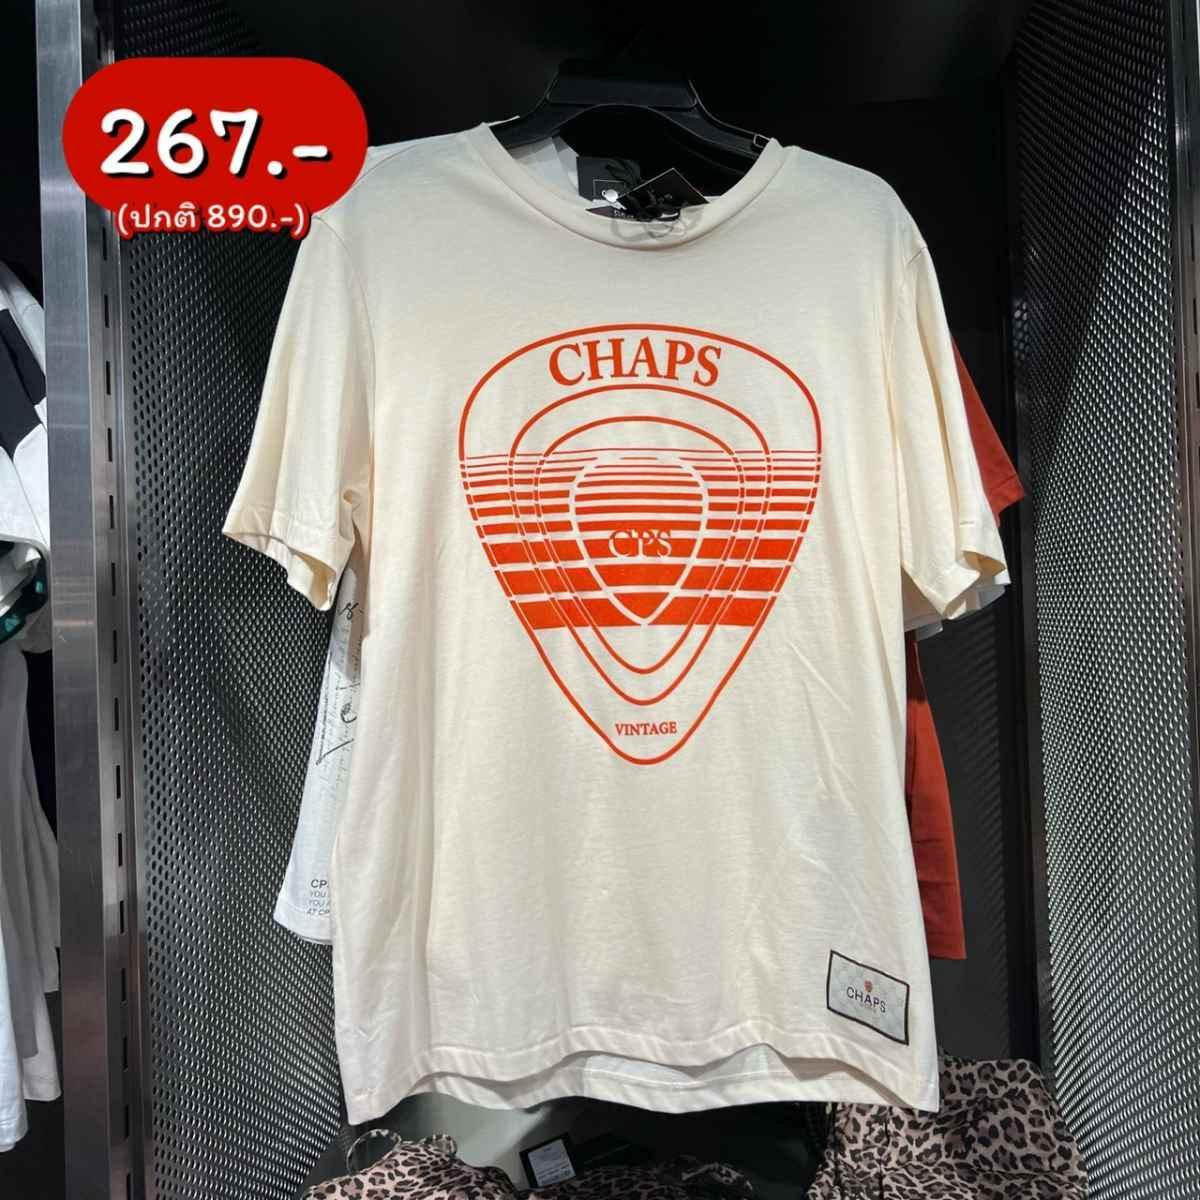Tshirt: (213, 115, 1033, 1162)
